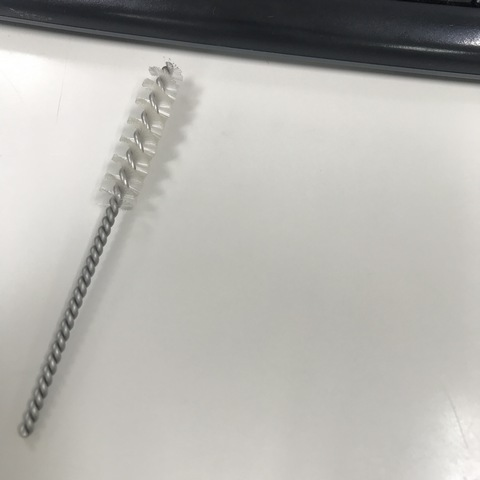Twist Brush-B: (16, 59, 184, 434)
